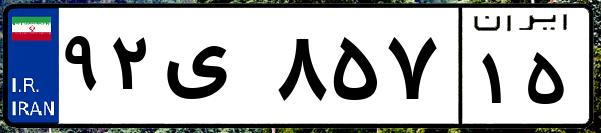1: (475, 38, 525, 113)
2: (110, 28, 158, 98)
5: (330, 28, 385, 110), (525, 38, 570, 115)
7: (385, 28, 445, 110)
8: (270, 28, 330, 110)
9: (57, 26, 110, 100)
ی: (158, 20, 270, 120)
